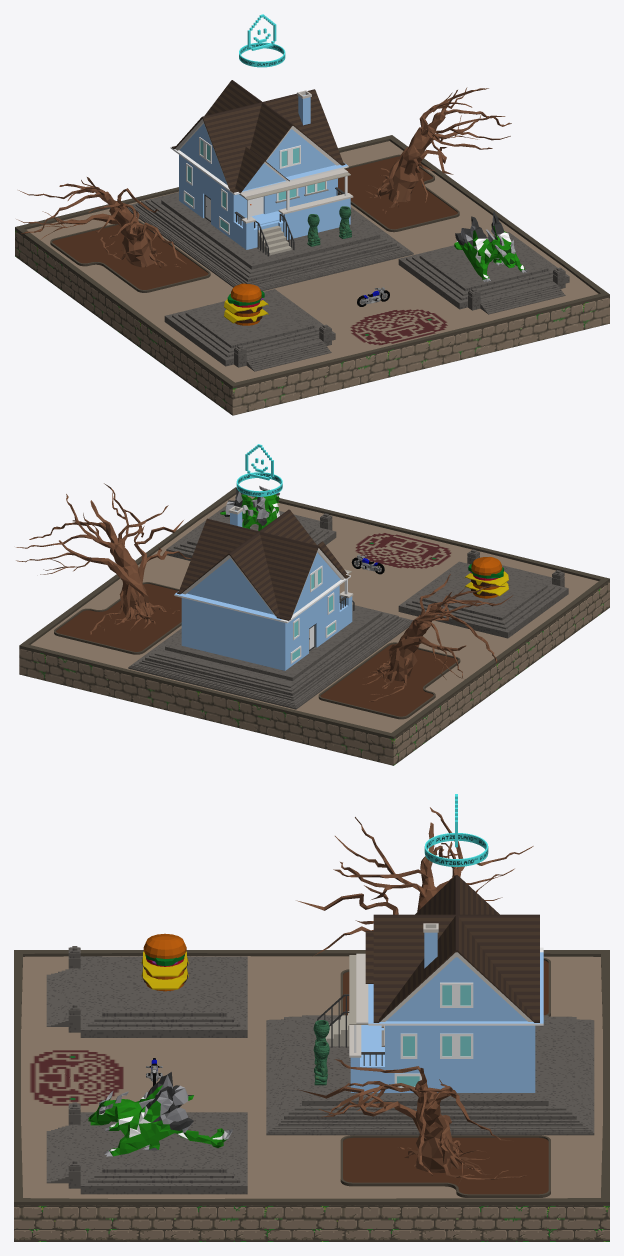
3 renders of one model, top to bottom at view 1: azimuth 30°, elevation 25°; view 2: azimuth 150°, elevation 25°; view 3: azimuth 270°, elevation 25°, orthographic. The views are drawn at different scales.
Parts seen in each view (by area): view 1: Cube.011, Cube.1594, ANIMAL_DRAGON, OBJRANDOM_HAMBURGER, TYPE_PREMIUM; view 2: Cube.011, Cube.1594, OBJRANDOM_HAMBURGER, ANIMAL_DRAGON, TYPE_PREMIUM; view 3: Cube.011, Cube.1594, ANIMAL_DRAGON, OBJRANDOM_HAMBURGER, TYPE_PREMIUM.
Part boxes in pixels (x1,y1,x2,y2): Cube.011: [15, 87, 609, 415]; Cube.1594: [170, 80, 353, 256]; ANIMAL_DRAGON: [454, 211, 527, 281]; OBJRANDOM_HAMBURGER: [224, 283, 268, 325]; TYPE_PREMIUM: [239, 14, 285, 67]; Cube.011: [16, 483, 609, 765]; Cube.1594: [174, 506, 354, 670]; OBJRANDOM_HAMBURGER: [464, 557, 508, 598]; ANIMAL_DRAGON: [220, 486, 279, 530]; TYPE_PREMIUM: [236, 444, 282, 496]; Cube.011: [14, 807, 609, 1241]; Cube.1594: [317, 875, 543, 1092]; ANIMAL_DRAGON: [88, 1072, 232, 1156]; OBJRANDOM_HAMBURGER: [141, 933, 188, 991]; TYPE_PREMIUM: [424, 794, 488, 866].
Size of the model in its own units: 5099 by 2417 by 4000.
37 materials, 7 textured.
